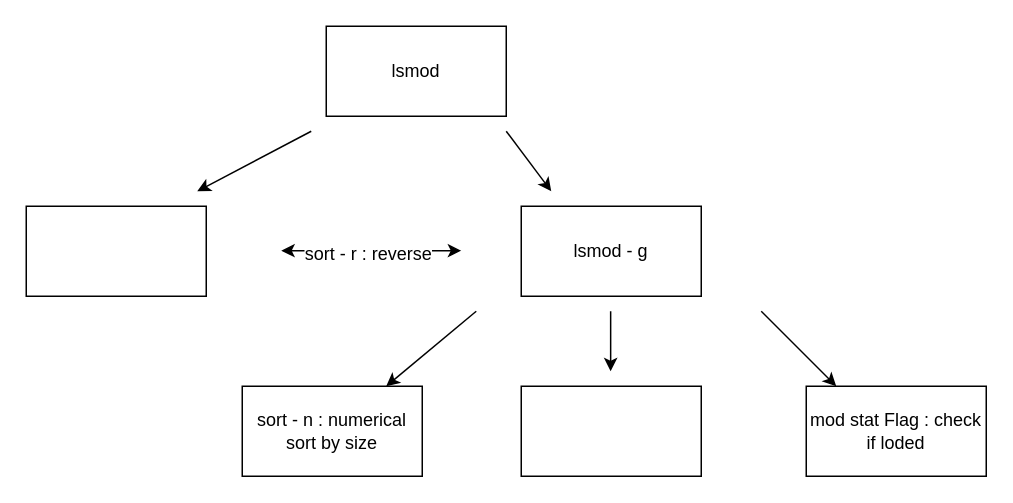
The diagram is 1013 pixels wide and 503 high, and some of its shapes have lost their labels. The box of each missing label's shape, as (x1, y1, x2, y2) in pixels:
lsmod - l: (25, 205, 206, 296)
mod stat - n : retrieves and checks name: (520, 385, 701, 476)
